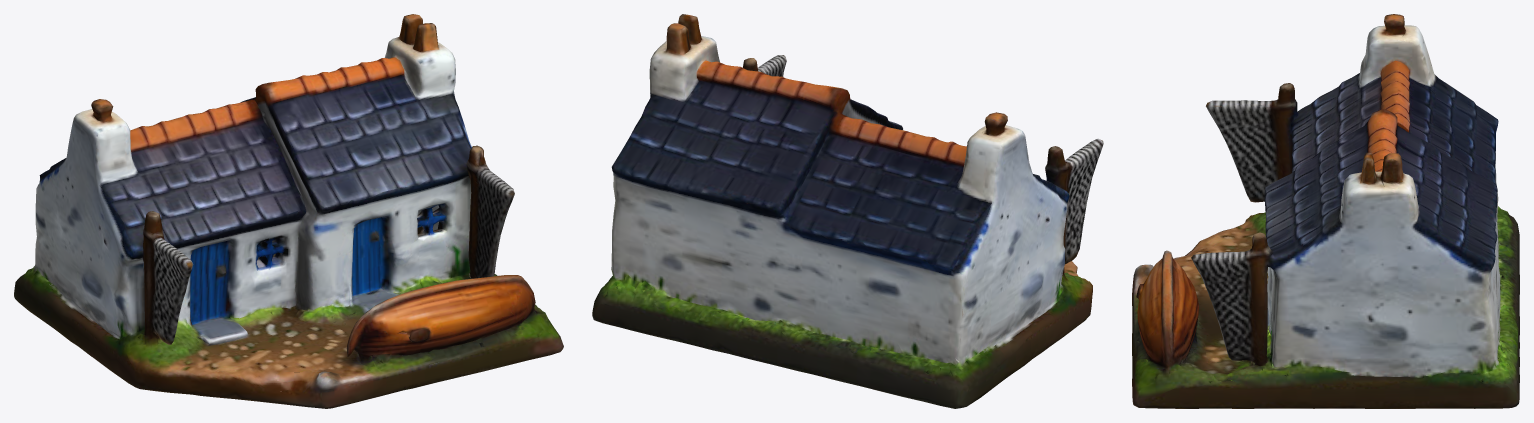
The model's file is village_coast_a.glb.
3 views of the same model, side by side, from view 1: azimuth 30°, elevation 25°; view 2: azimuth 150°, elevation 25°; view 3: azimuth 270°, elevation 25° (orthographic). The views are drawn at different scales.
Parts seen in each view (by area): view 1: world; view 2: world; view 3: world.
Boxes of the visible parts, x1=… form: world: x1=14, y1=14, x2=563, y2=408; world: x1=592, y1=14, x2=1103, y2=408; world: x1=1132, y1=14, x2=1519, y2=408.
Bounding box in the file's own units: 0.9962 × 0.6452 × 0.9263.
Materials: 1 (1 with a texture image).
